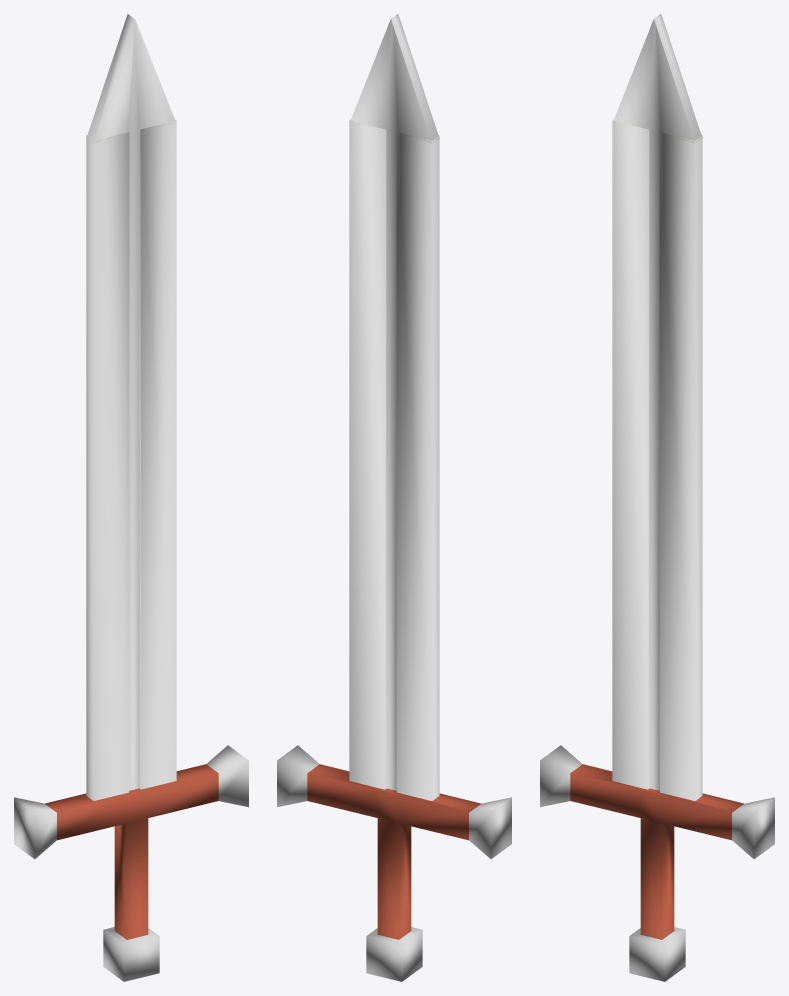
File: Sword.obj
3 renders of one model, left to right at view 1: azimuth 30°, elevation 25°; view 2: azimuth 150°, elevation 25°; view 3: azimuth 330°, elevation 25°, orthographic.
Visible parts, largest first — view 1: Cube1_Metall, Cube1_Wood; view 2: Cube1_Metall, Cube1_Wood; view 3: Cube1_Metall, Cube1_Wood.
Boxes of the visible parts, x1,y1,x2,y2 form: Cube1_Metall: (14,14,248,981); Cube1_Wood: (45,764,218,939); Cube1_Metall: (277,14,511,981); Cube1_Wood: (307,764,480,939); Cube1_Metall: (540,14,774,981); Cube1_Wood: (570,764,743,939).
Bounding box in the file's own units: 12.02 × 51.18 × 2.03.
